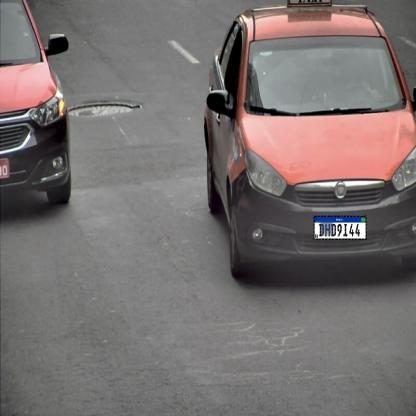PlacaM: (314, 216, 366, 240)
